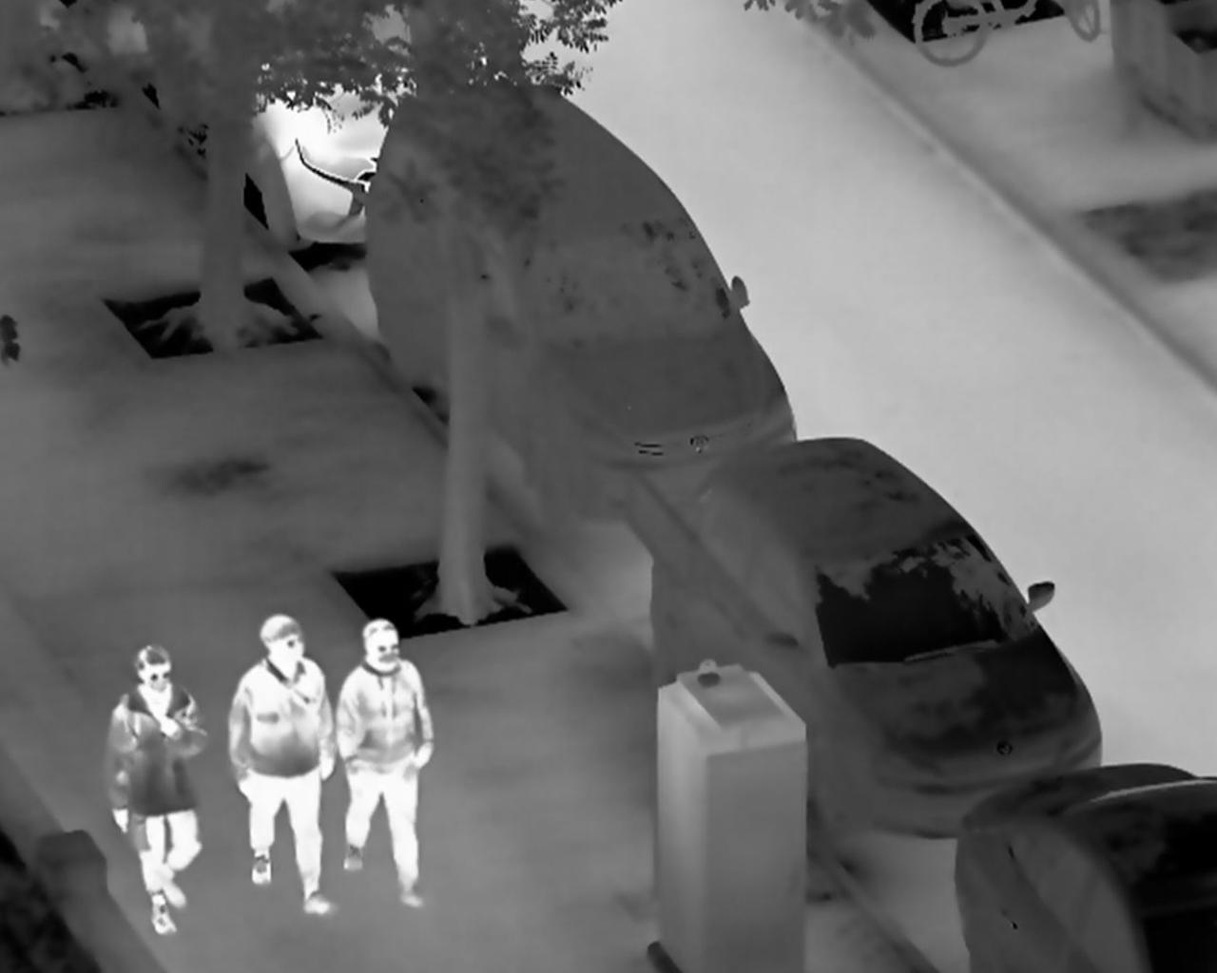person: (228, 614, 338, 913), (105, 640, 214, 933), (332, 618, 429, 909)
